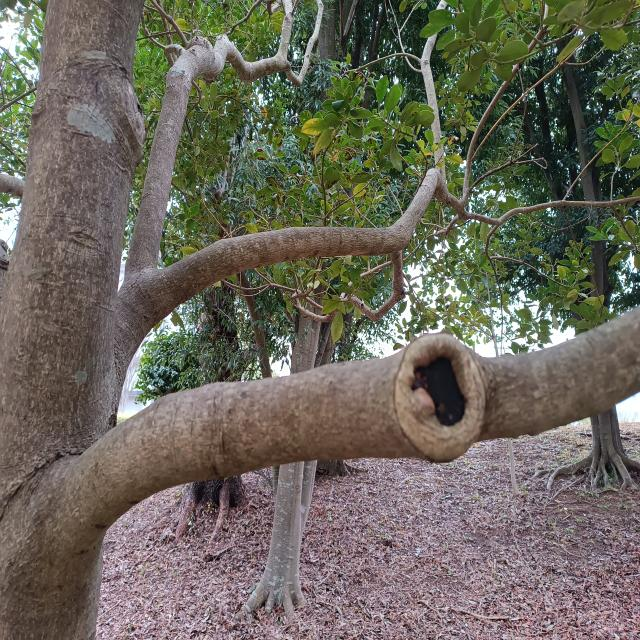Branch: (92, 306, 640, 528), (114, 168, 465, 379), (123, 36, 290, 282)
Twig: (463, 30, 544, 195), (419, 27, 446, 180), (458, 201, 611, 225), (289, 0, 324, 86), (466, 155, 525, 197), (277, 1, 293, 57)
